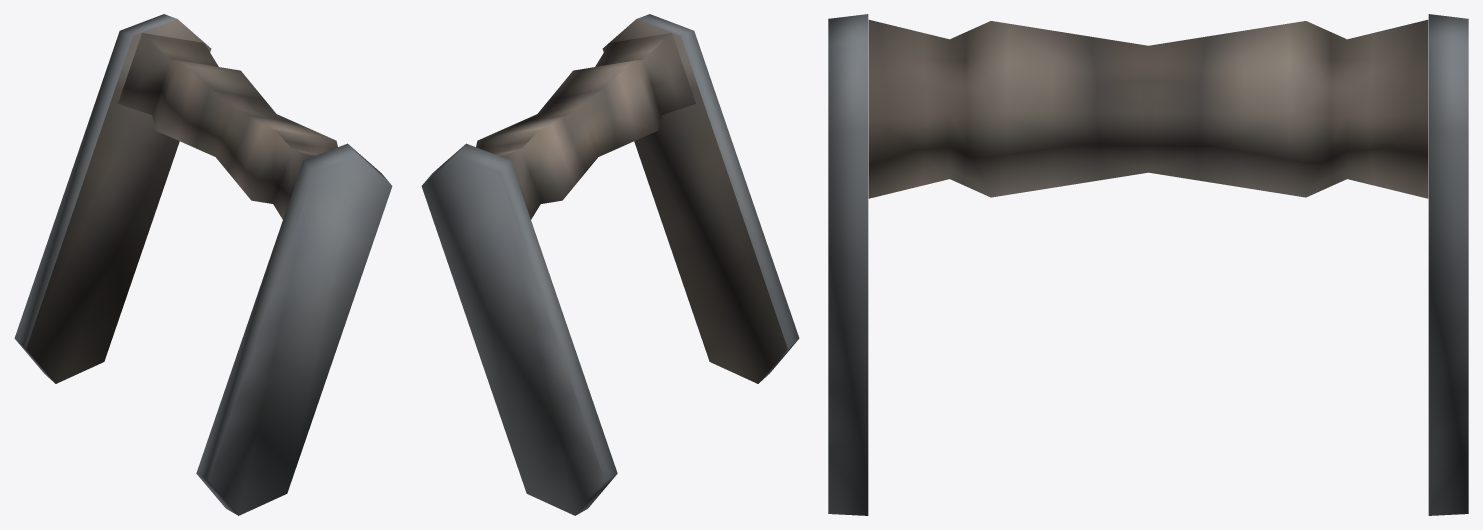
Rendered from grave_breaker_switch.glb.
3 views of the same model, side by side, from view 1: azimuth 30°, elevation 25°; view 2: azimuth 150°, elevation 25°; view 3: azimuth 270°, elevation 25° (orthographic). The views are drawn at different scales.
Visible parts, largest first — view 1: breaker_switch; view 2: breaker_switch; view 3: breaker_switch.
Boxes of the visible parts, x1,y1,x2,y2 form: breaker_switch: (14,14,392,515); breaker_switch: (421,14,799,515); breaker_switch: (828,14,1468,515).
Size of the model in its own units: 0.2475 by 0.428 by 0.45.
Materials: 2 (2 with a texture image).
